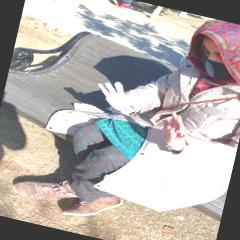gloved: (90, 78, 144, 114)
not-gloved: (154, 111, 191, 153)
